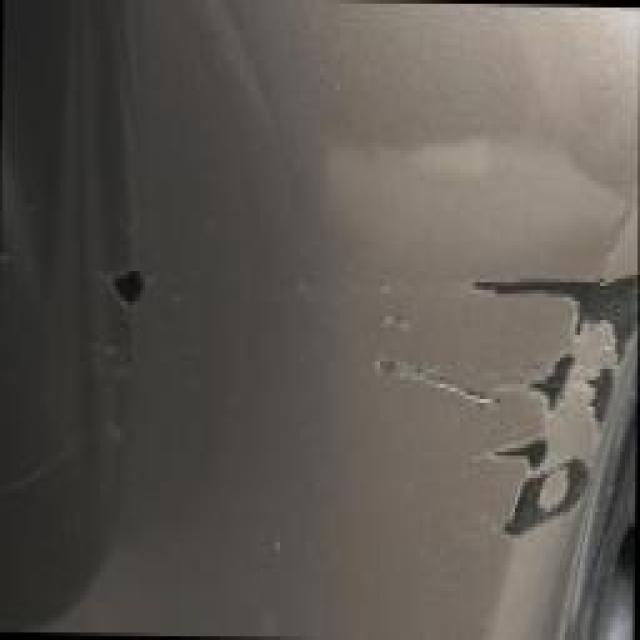Fender: (0, 23, 640, 640)
